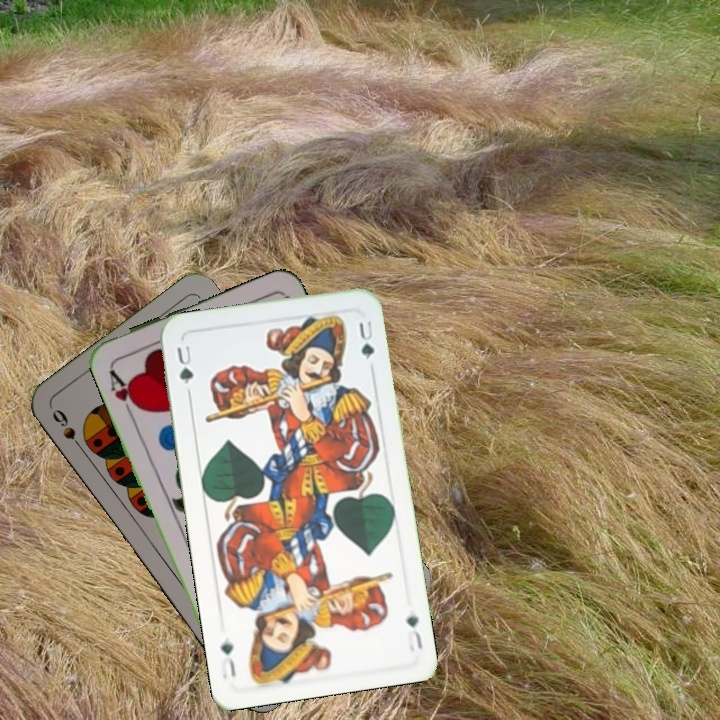GU: (172, 339, 197, 387), (402, 612, 425, 654)
HA: (105, 363, 143, 419)
S9: (48, 404, 88, 456)
